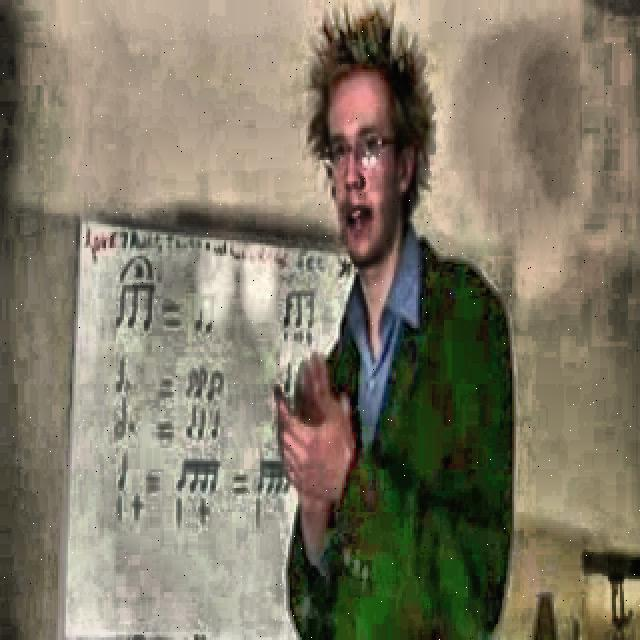F: (270, 1, 518, 634)
